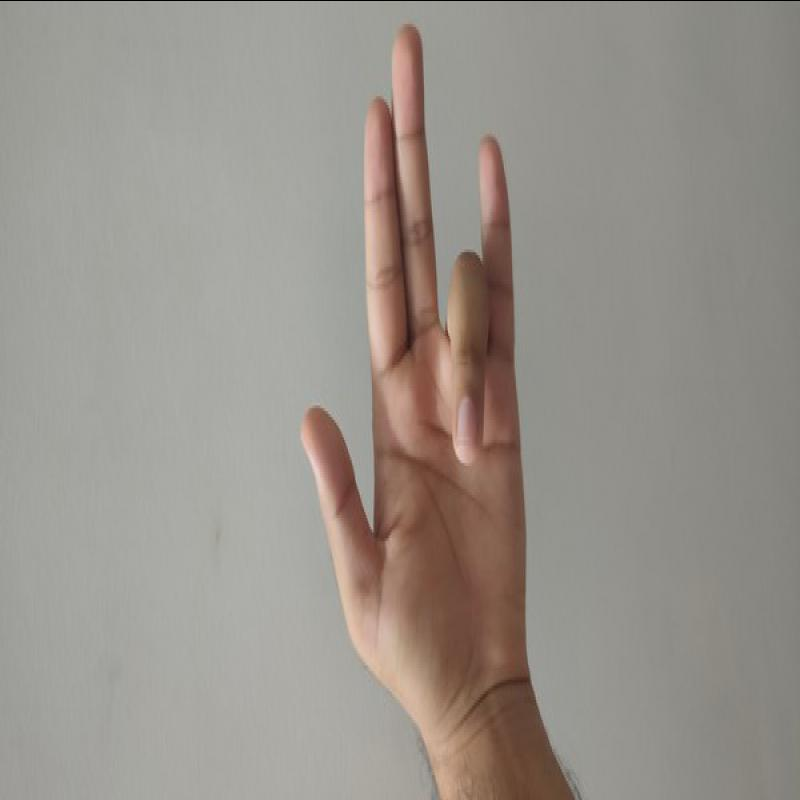Pathaaka: (237, 12, 582, 716)
